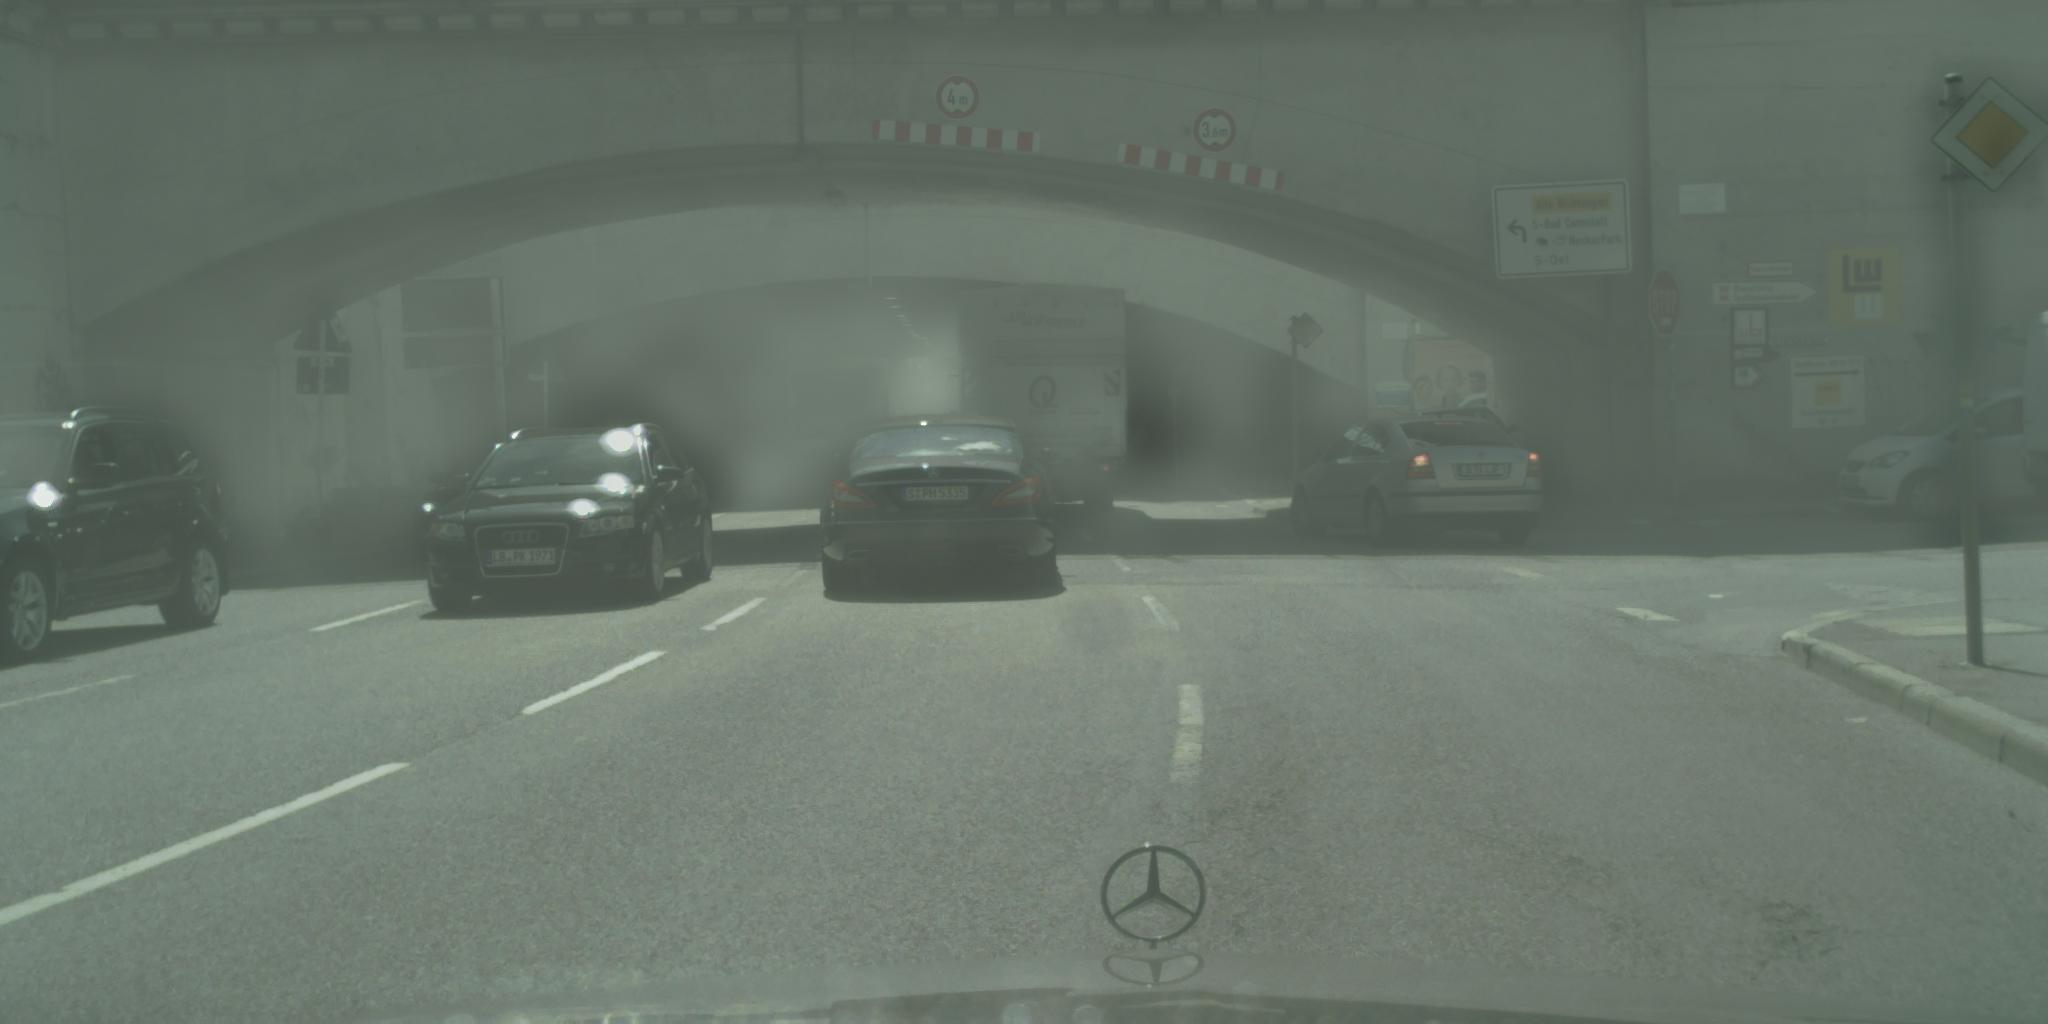car: (1, 405, 230, 667), (422, 418, 718, 616), (819, 411, 1072, 600), (1289, 413, 1548, 551), (1836, 379, 2045, 524), (784, 353, 903, 490), (411, 434, 513, 558), (1408, 401, 1526, 449), (2021, 302, 2045, 509)
truck: (953, 286, 1132, 537)
